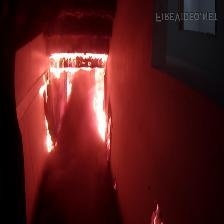fire: (41, 50, 113, 160)
